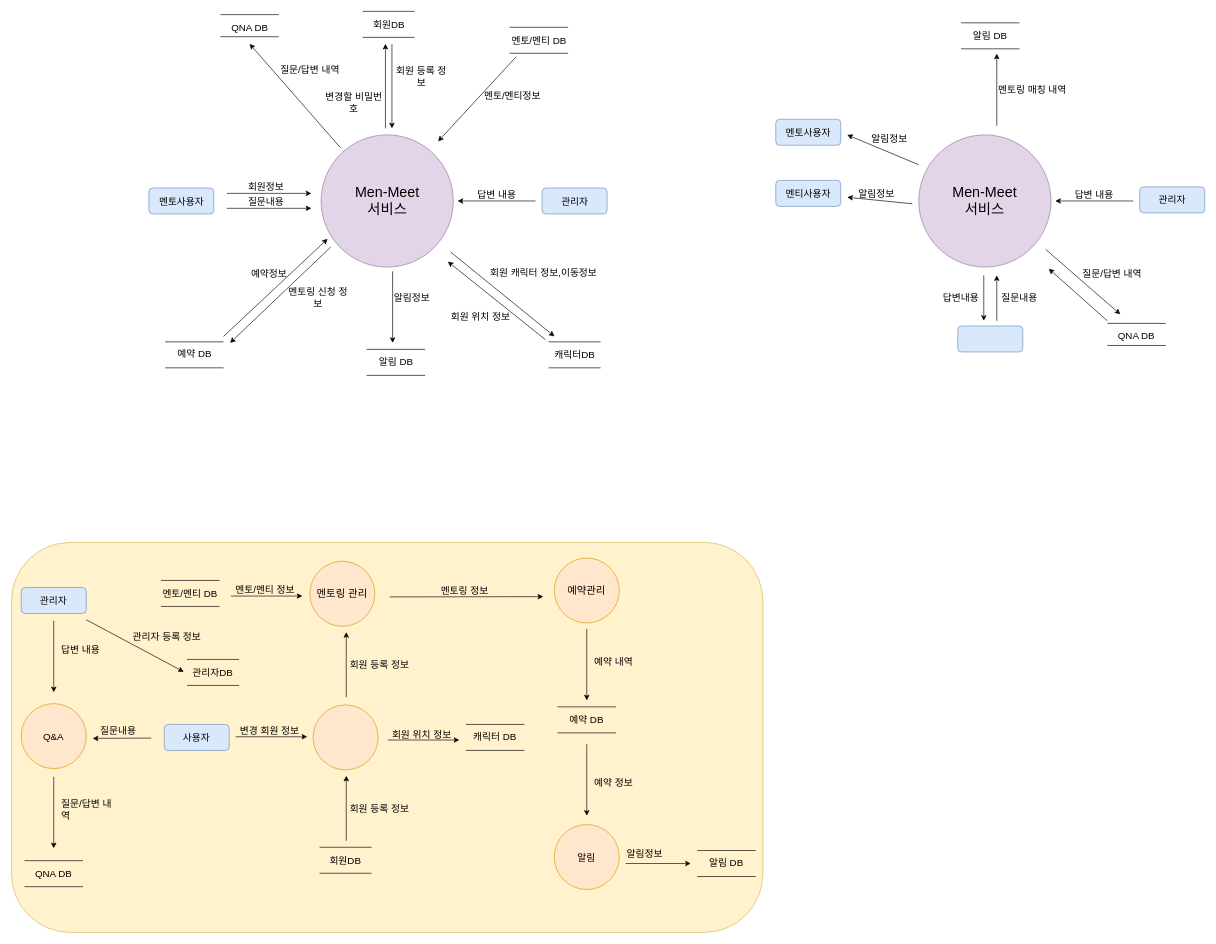
Some shapes in this 1216 by 944 pixel diagram are drawn without their labels. Each missing label, with the centre of its shape:
질문사용자: [990,338]
회원관리: [345,737]
